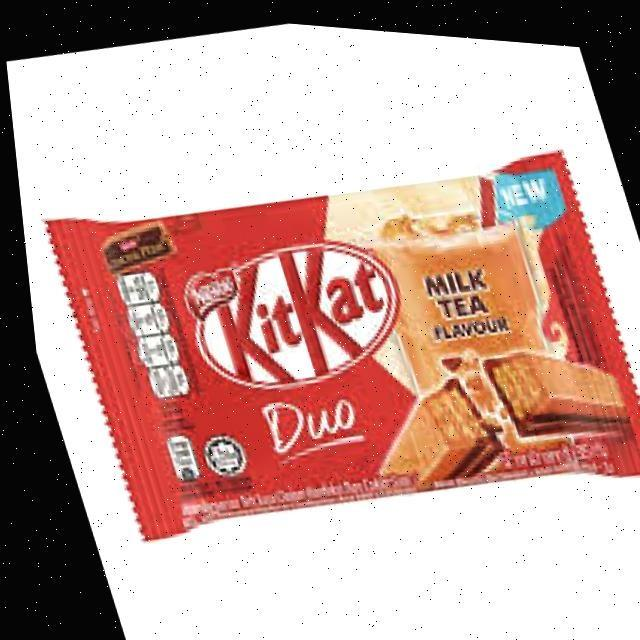kitkat_chocolate: (50, 200, 628, 505)
